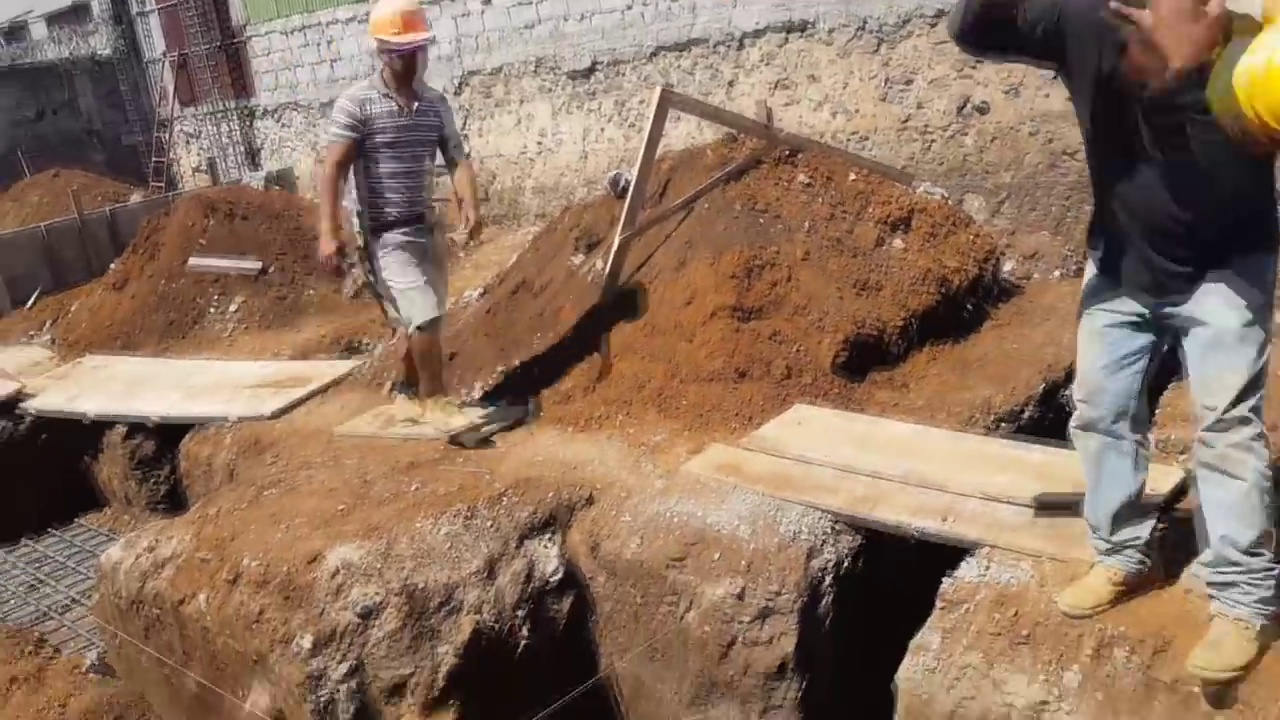helmet: (1212, 19, 1274, 144), (361, 0, 446, 55)
helmet-on: (360, 1, 446, 95)
person: (947, 1, 1273, 639), (306, 2, 481, 397)
